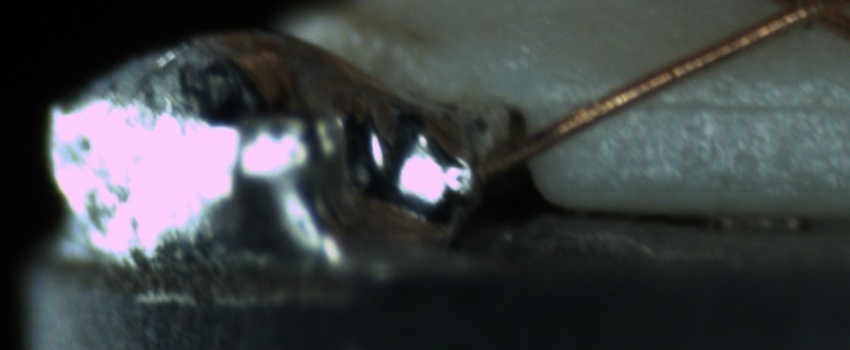CL: (753, 0, 839, 42)
DL: (575, 69, 845, 137)
